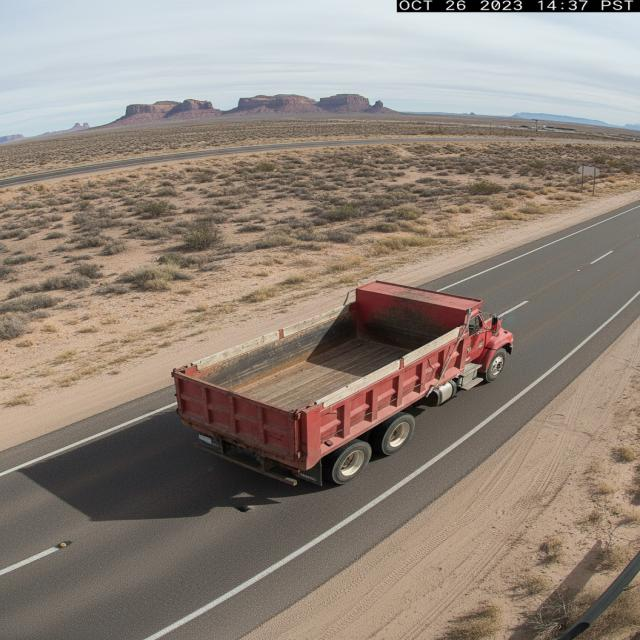trailer: (171, 281, 490, 413)
truck: (152, 254, 506, 483)
